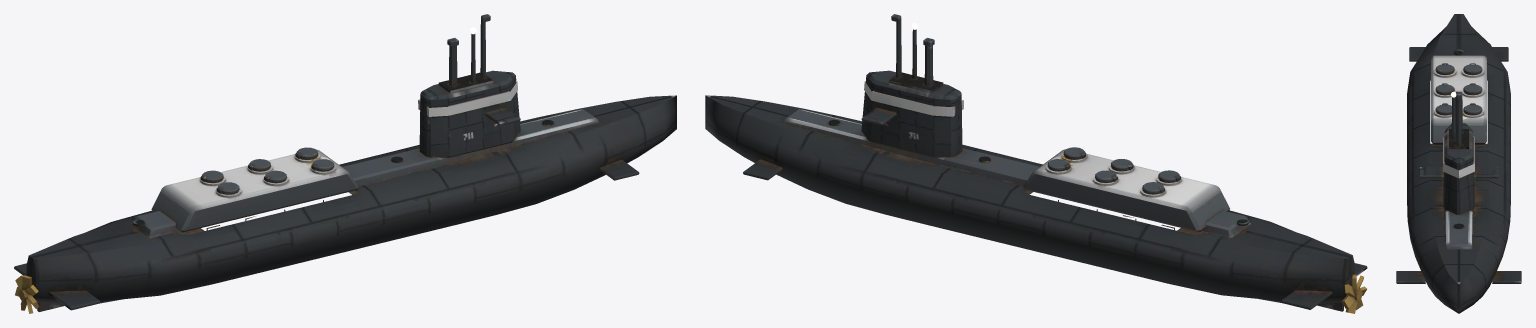
File: msub.soviet.glb
The picture shows the model from 3 angles, left to right: view 1: azimuth 30°, elevation 25°; view 2: azimuth 150°, elevation 25°; view 3: azimuth 270°, elevation 25°; orthographic projection. The views are drawn at different scales.
Visible parts, largest first — view 1: hull_mesh, masts_mesh, prop_mesh; view 2: hull_mesh, masts_mesh, prop_mesh; view 3: hull_mesh, masts_mesh, hatch2_mesh, hatch0_mesh, hatch1_mesh, hatch3_mesh, hatch4_mesh, hatch5_mesh.
Boxes of the visible parts, x1=… form: hull_mesh: x1=14, y1=70, x2=676, y2=311; masts_mesh: x1=447, y1=14, x2=490, y2=86; prop_mesh: x1=15, y1=275, x2=38, y2=313; hull_mesh: x1=705, y1=70, x2=1367, y2=311; masts_mesh: x1=891, y1=14, x2=934, y2=86; prop_mesh: x1=1341, y1=274, x2=1366, y2=313; hull_mesh: x1=1396, y1=14, x2=1521, y2=313; masts_mesh: x1=1451, y1=91, x2=1462, y2=146; hatch2_mesh: x1=1463, y1=83, x2=1482, y2=94; hatch0_mesh: x1=1463, y1=63, x2=1482, y2=74; hatch1_mesh: x1=1435, y1=63, x2=1454, y2=74; hatch3_mesh: x1=1435, y1=83, x2=1454, y2=94; hatch4_mesh: x1=1463, y1=103, x2=1482, y2=114; hatch5_mesh: x1=1435, y1=103, x2=1451, y2=114.
Bounding box in the file's own units: 1.52 × 0.436 × 0.29.
2 materials, 1 textured.
